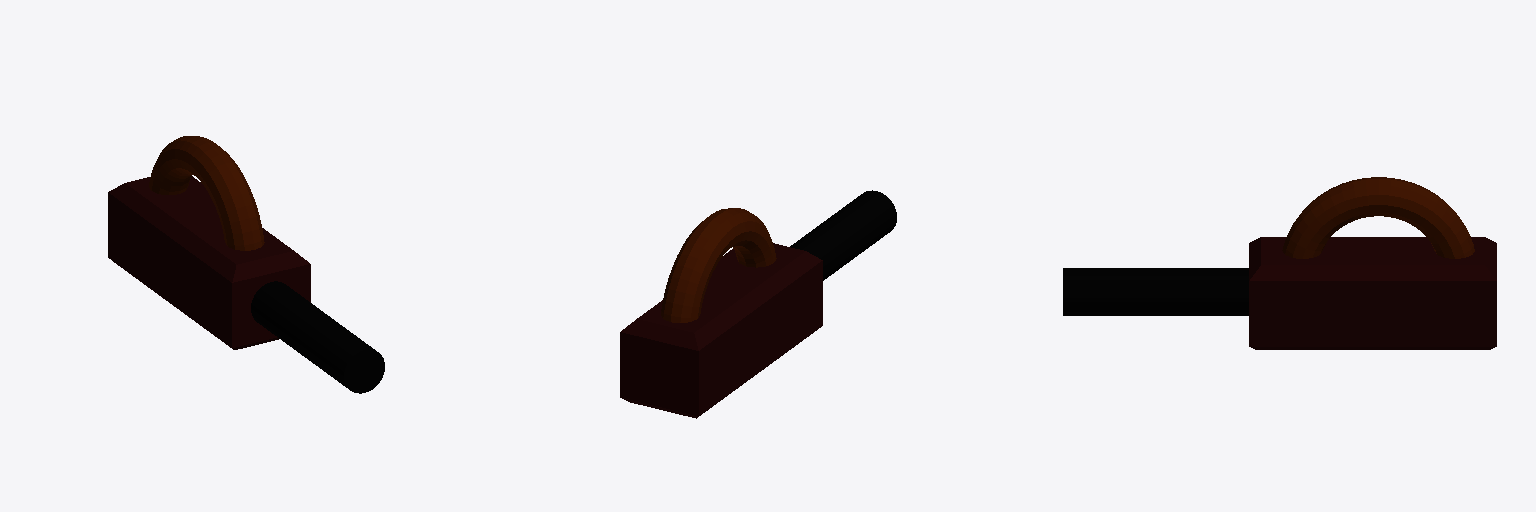
The model's file is leafblower.obj.
The picture shows the model from 3 angles: view 1: azimuth 30°, elevation 25°; view 2: azimuth 150°, elevation 25°; view 3: azimuth 270°, elevation 25°; orthographic projection.
Parts seen in each view (by area): view 1: Torus; view 2: Torus; view 3: Torus.
Boxes of the visible parts, box(x1,y1,x2,y2) form: Torus: box(108, 136, 384, 393); Torus: box(620, 190, 896, 418); Torus: box(1063, 177, 1496, 349).
Bounding box in the file's own units: 0.5354 × 1 × 2.56.